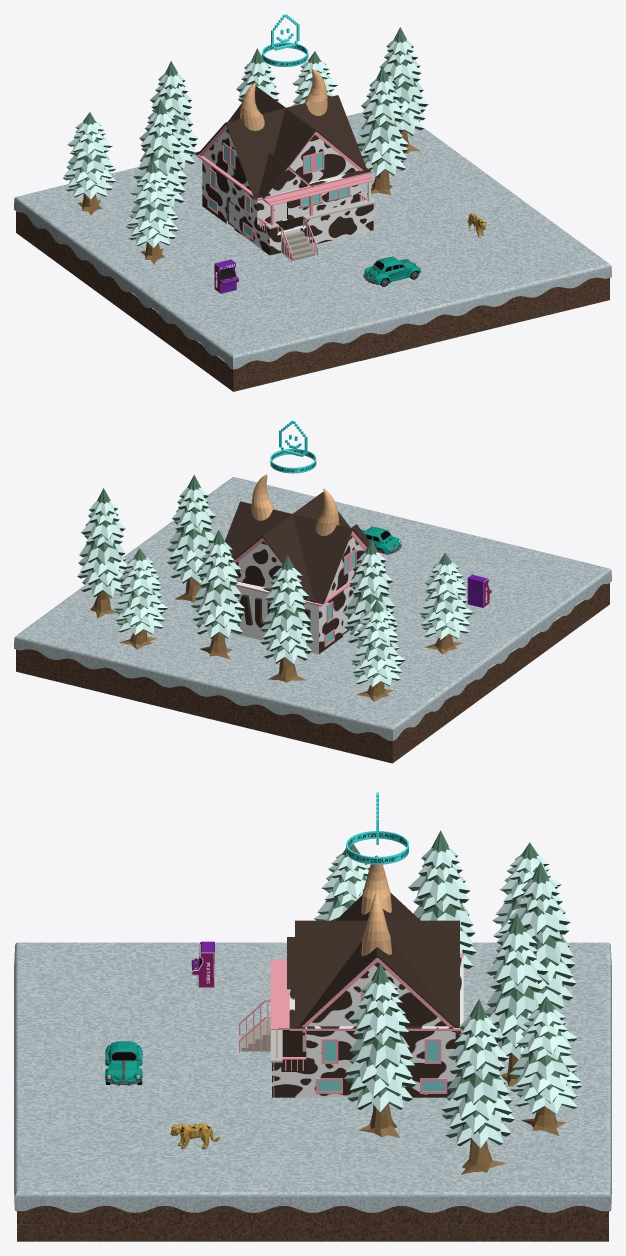
3 renders of one model, top to bottom at view 1: azimuth 30°, elevation 25°; view 2: azimuth 150°, elevation 25°; view 3: azimuth 270°, elevation 25°, orthographic. The views are drawn at different scales.
Parts seen in each view (by area): view 1: Cube.003, Cube.1242, VEHICLES_VOLKSWAGEN, TYPE_PREMIUM, OBJRANDOM_ARCADE; view 2: Cube.003, Cube.1242, TYPE_PREMIUM, OBJRANDOM_ARCADE, VEHICLES_VOLKSWAGEN; view 3: Cube.003, Cube.1242, VEHICLES_VOLKSWAGEN, TYPE_PREMIUM, OBJRANDOM_ARCADE, ANIMAL_JAGUAR.
Boxes of the visible parts, <box> form: Cube.003: <box>14,27,611,391</box>; Cube.1242: <box>194,68,376,261</box>; VEHICLES_VOLKSWAGEN: <box>363,256,421,286</box>; TYPE_PREMIUM: <box>262,14,308,66</box>; OBJRANDOM_ARCADE: <box>214,259,238,293</box>; Cube.003: <box>14,475,611,763</box>; Cube.1242: <box>225,474,388,654</box>; TYPE_PREMIUM: <box>270,420,316,473</box>; OBJRANDOM_ARCADE: <box>467,574,491,607</box>; VEHICLES_VOLKSWAGEN: <box>361,526,401,554</box>; Cube.003: <box>14,830,611,1241</box>; Cube.1242: <box>238,855,463,1097</box>; VEHICLES_VOLKSWAGEN: <box>105,1041,142,1085</box>; TYPE_PREMIUM: <box>346,792,408,864</box>; OBJRANDOM_ARCADE: <box>191,941,214,988</box>; ANIMAL_JAGUAR: <box>170,1123,219,1149</box>.
Size of the model in its own units: 4040 by 2467 by 4040.
Materials: 48 (4 with a texture image).
